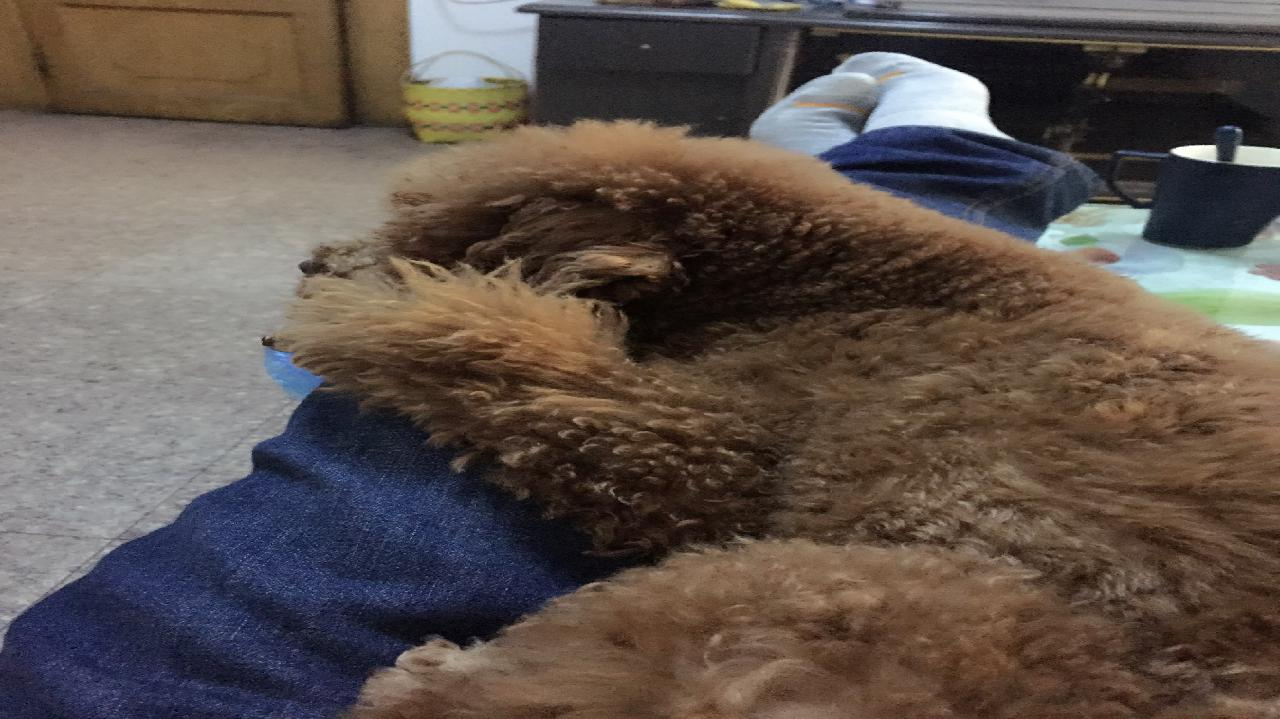zhuangzhuang: (288, 118, 1265, 715)
